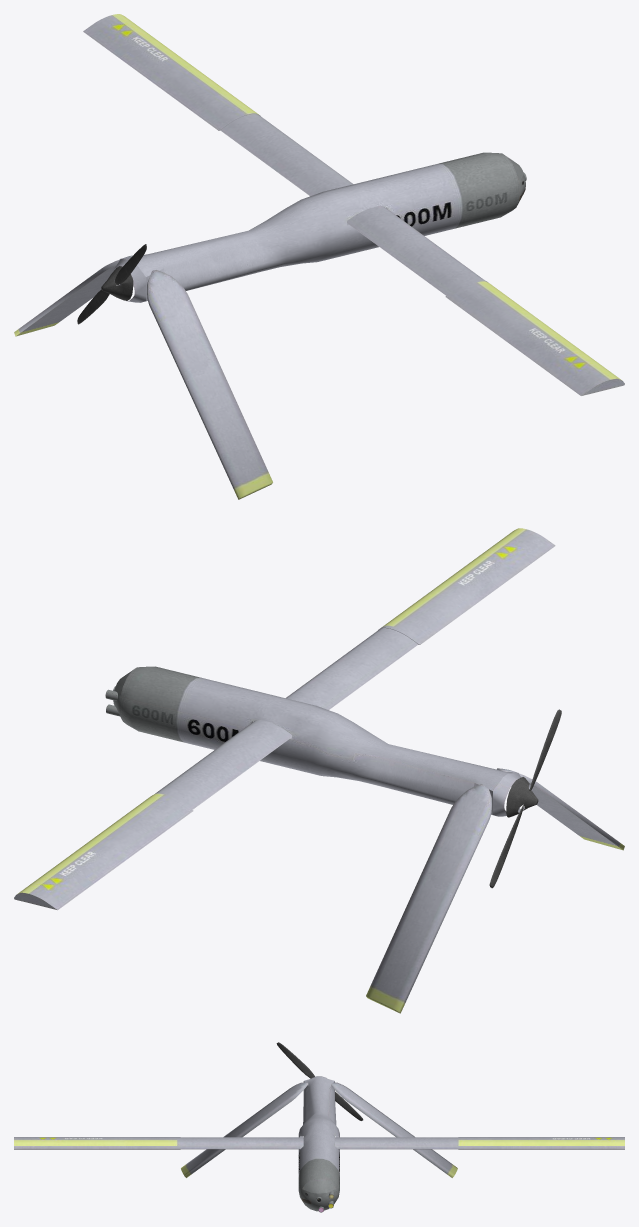
Rendered from tgt_altius.glb.
3 renders of one model, top to bottom at view 1: azimuth 30°, elevation 25°; view 2: azimuth 150°, elevation 25°; view 3: azimuth 270°, elevation 25°, orthographic. The views are drawn at different scales.
Visible parts, largest first — view 1: body, prop_1; view 2: body, prop_1; view 3: body, prop_1.
Boxes of the visible parts, x1,y1,x2,y2 form: body: (14,14,624,499); prop_1: (77,244,146,324); body: (14,528,624,1013); prop_1: (489,709,561,888); body: (14,1076,624,1212); prop_1: (276,1042,363,1120).
Bounding box in the file's own units: 1.02 × 0.4661 × 2.09.
1 material, 1 textured.
